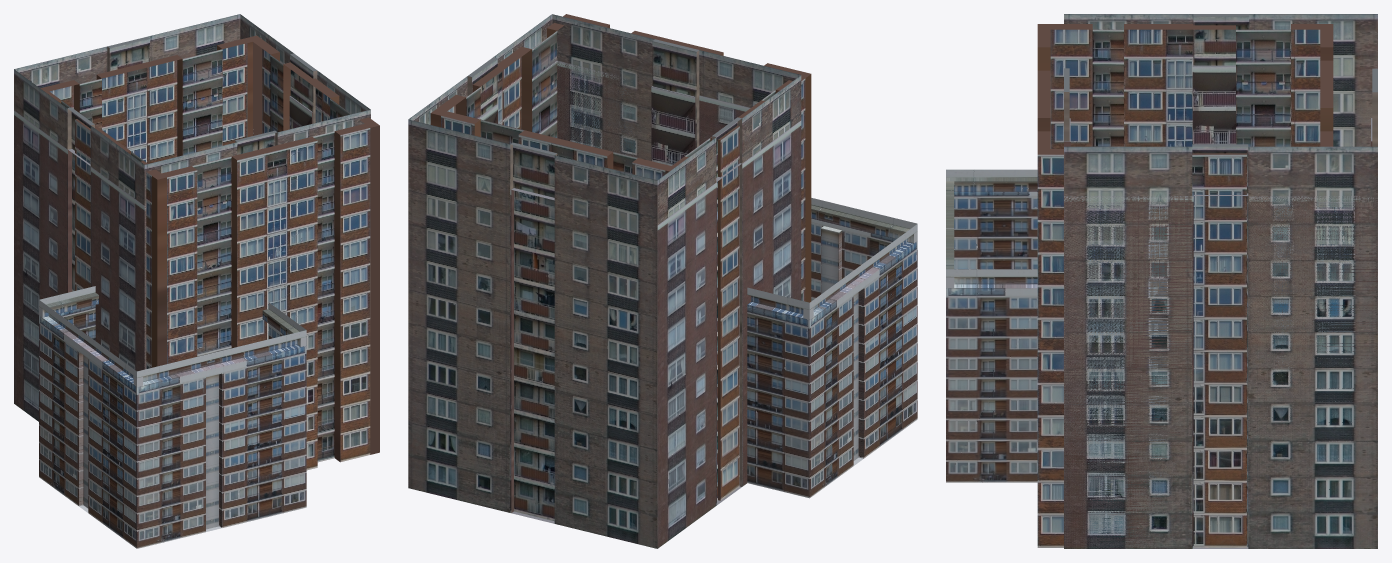
File: Apartments.fbx
3 views of the same model, side by side, from view 1: azimuth 30°, elevation 25°; view 2: azimuth 150°, elevation 25°; view 3: azimuth 270°, elevation 25° (orthographic). The views are drawn at different scales.
Visible parts, largest first — view 1: Apartment_05, Apartment_06, Apartment_08, Apartmen_07; view 2: Apartmen_07, Apartment_08, Apartment_06, Apartment_05; view 3: Apartmen_07, Apartment_05, Apartment_08, Apartment_06.
Part boxes in pixels (bbox=[...]): Apartment_05: bbox=[40, 35, 379, 470]; Apartment_06: bbox=[39, 286, 306, 548]; Apartment_08: bbox=[14, 96, 312, 421]; Apartmen_07: bbox=[14, 14, 370, 369]; Apartmen_07: bbox=[408, 14, 801, 548]; Apartment_08: bbox=[480, 60, 801, 548]; Apartment_06: bbox=[747, 198, 917, 498]; Apartment_05: bbox=[430, 14, 811, 500]; Apartmen_07: bbox=[1064, 14, 1377, 548]; Apartment_05: bbox=[1037, 24, 1333, 547]; Apartment_08: bbox=[1064, 64, 1377, 548]; Apartment_06: bbox=[946, 169, 1037, 482].
Size of the model in its own units: 5000 by 5653 by 5500.
